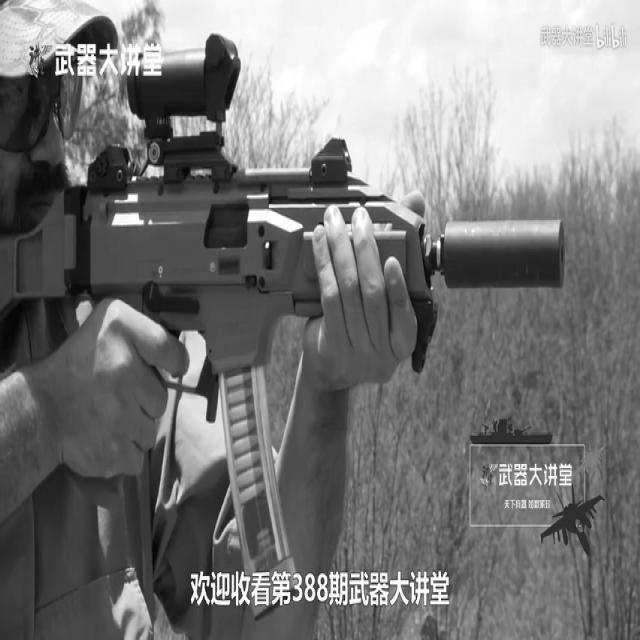Sub-machine-gun: (0, 32, 568, 640)
